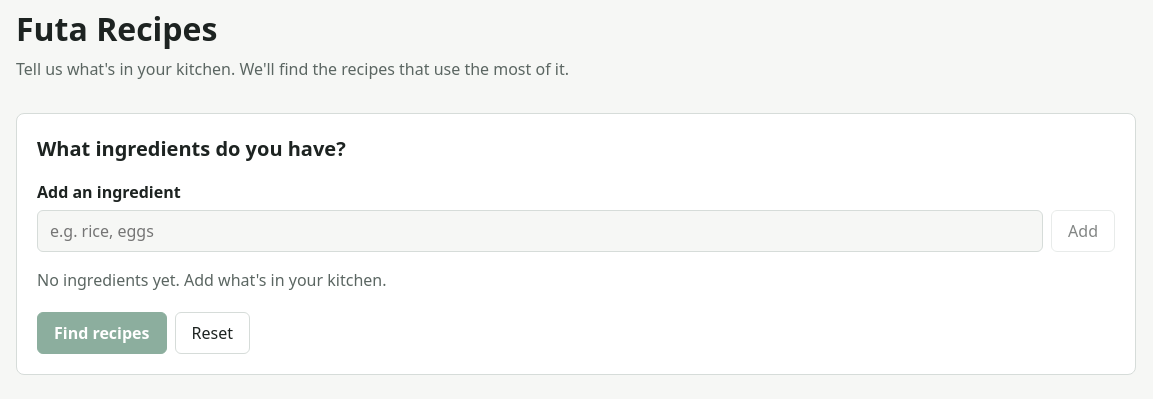
Test case: ignore doublons et saisies vides ; Reset vide la liste et le champ (régression WEB-04)
Type "rice" into the field labelled "Add an ingredient" at coordinates (540, 231), box [37,210,1043,252]
Then press Enter
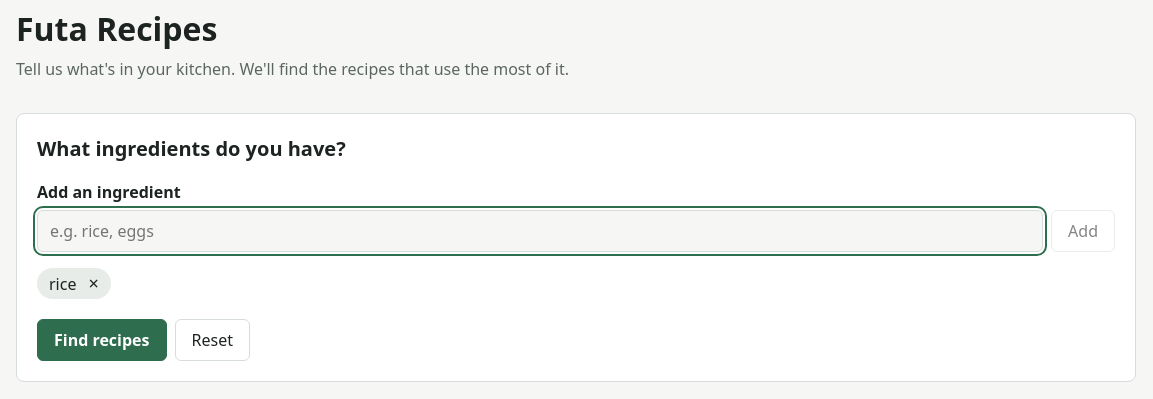
Type " RICE " into the field labelled "Add an ingredient" at coordinates (540, 231), box [37,210,1043,252]
Then press Enter
Expected: the number of list items is 1, [37,268,111,299]
Click the button named "Remove rice" at coordinates (94, 284), box [80,270,107,297]
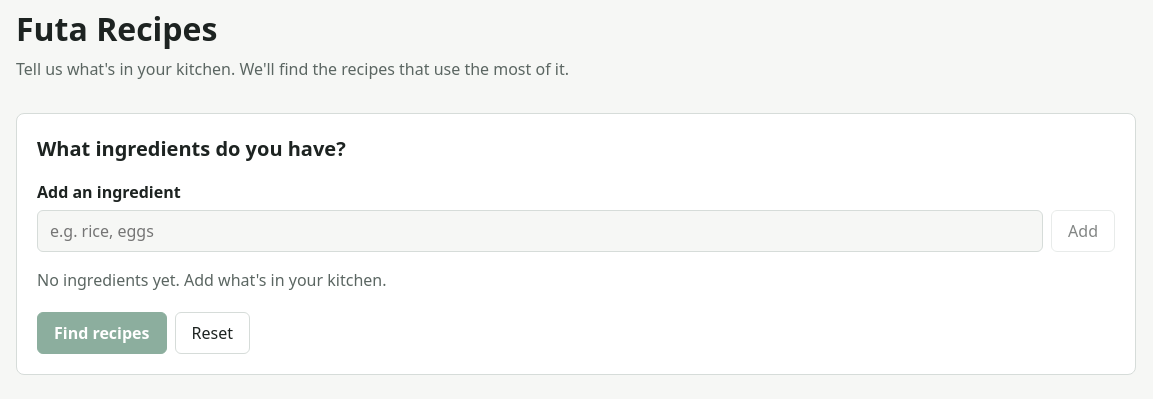
Type "bread" into the field labelled "Add an ingredient" at coordinates (540, 231), box [37,210,1043,252]
Then press Enter
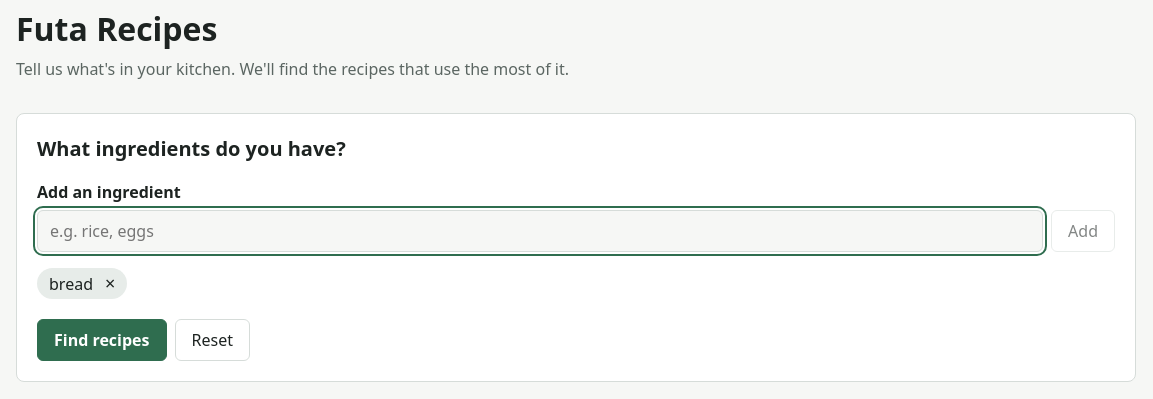
Type "salt" into the field labelled "Add an ingredient" at coordinates (540, 231), box [37,210,1043,252]
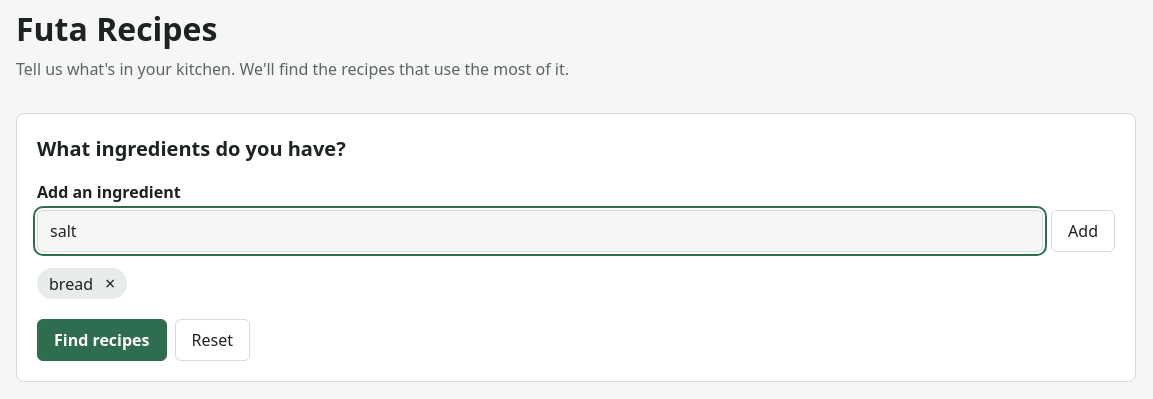
Click the button "Reset" at coordinates (212, 340), box [174,319,250,361]
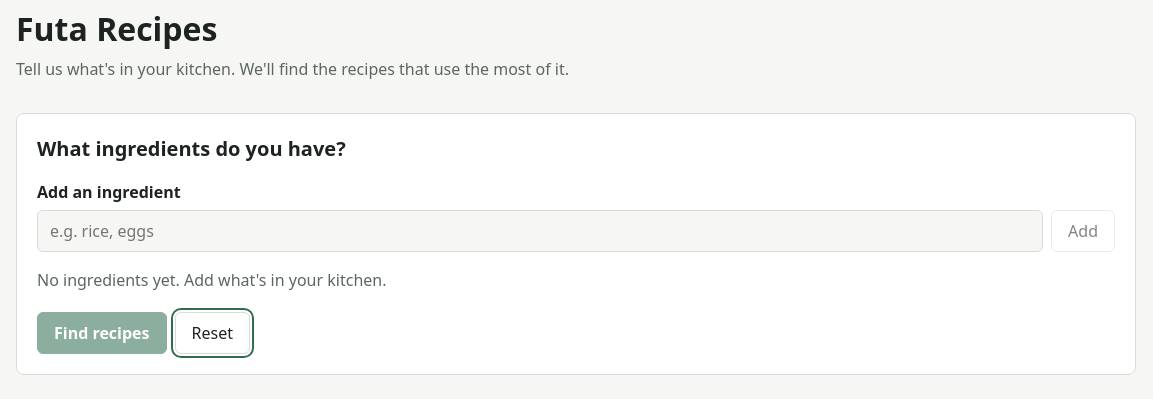
Expected: the field labelled "Add an ingredient" is empty, [37,210,1043,252]
